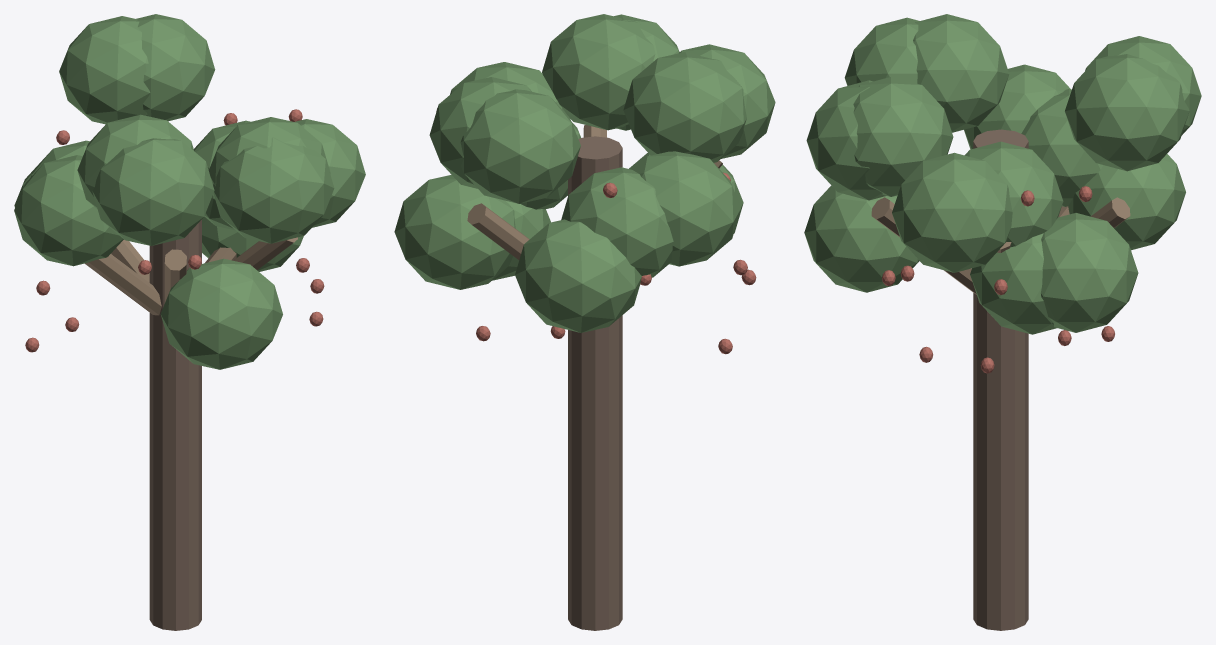
The model's file is obstbaum_apfel_sommer.glb.
The picture shows the model from 3 angles, left to right: view 1: azimuth 30°, elevation 25°; view 2: azimuth 150°, elevation 25°; view 3: azimuth 270°, elevation 25°; orthographic projection. The views are drawn at different scales.
Parts seen in each view (by area): view 1: obstbaum_apfel_sommer_000, obstbaum_apfel_sommer_013, obstbaum_apfel_sommer_008, obstbaum_apfel_sommer_018, obstbaum_apfel_sommer_009, obstbaum_apfel_sommer_011, obstbaum_apfel_sommer_017, obstbaum_apfel_sommer_016, obstbaum_apfel_sommer_015, obstbaum_apfel_sommer_010, obstbaum_apfel_sommer_004, obstbaum_apfel_sommer_020 (+5 smaller); view 2: obstbaum_apfel_sommer_000, obstbaum_apfel_sommer_009, obstbaum_apfel_sommer_016, obstbaum_apfel_sommer_014, obstbaum_apfel_sommer_012, obstbaum_apfel_sommer_010, obstbaum_apfel_sommer_011, obstbaum_apfel_sommer_019, obstbaum_apfel_sommer_017, obstbaum_apfel_sommer_008, obstbaum_apfel_sommer_015, obstbaum_apfel_sommer_006 (+3 smaller); view 3: obstbaum_apfel_sommer_000, obstbaum_apfel_sommer_015, obstbaum_apfel_sommer_017, obstbaum_apfel_sommer_012, obstbaum_apfel_sommer_010, obstbaum_apfel_sommer_016, obstbaum_apfel_sommer_013, obstbaum_apfel_sommer_014, obstbaum_apfel_sommer_020, obstbaum_apfel_sommer_007, obstbaum_apfel_sommer_018, obstbaum_apfel_sommer_019 (+5 smaller).
Part boxes in pixels (x1,y1,x2,y2): obstbaum_apfel_sommer_000: (149, 219, 201, 630); obstbaum_apfel_sommer_013: (160, 258, 282, 369); obstbaum_apfel_sommer_008: (92, 138, 214, 245); obstbaum_apfel_sommer_018: (213, 137, 334, 243); obstbaum_apfel_sommer_009: (59, 16, 150, 124); obstbaum_apfel_sommer_011: (14, 155, 123, 266); obstbaum_apfel_sommer_017: (136, 14, 215, 121); obstbaum_apfel_sommer_016: (77, 114, 193, 208); obstbaum_apfel_sommer_015: (295, 119, 365, 227); obstbaum_apfel_sommer_010: (208, 117, 330, 185); obstbaum_apfel_sommer_004: (85, 254, 161, 315); obstbaum_apfel_sommer_020: (202, 216, 303, 271); obstbaum_apfel_sommer_000: (568, 136, 622, 630); obstbaum_apfel_sommer_009: (460, 89, 580, 203); obstbaum_apfel_sommer_016: (623, 52, 746, 162); obstbaum_apfel_sommer_014: (515, 219, 641, 332); obstbaum_apfel_sommer_012: (394, 175, 515, 289); obstbaum_apfel_sommer_010: (542, 14, 655, 130); obstbaum_apfel_sommer_011: (632, 151, 740, 266); obstbaum_apfel_sommer_019: (561, 167, 673, 277); obstbaum_apfel_sommer_017: (429, 77, 531, 188); obstbaum_apfel_sommer_008: (679, 44, 775, 158); obstbaum_apfel_sommer_015: (450, 62, 566, 114); obstbaum_apfel_sommer_006: (467, 203, 529, 259); obstbaum_apfel_sommer_000: (973, 129, 1028, 630); obstbaum_apfel_sommer_015: (892, 152, 1012, 272); obstbaum_apfel_sommer_017: (1065, 54, 1189, 171); obstbaum_apfel_sommer_012: (1041, 213, 1138, 332); obstbaum_apfel_sommer_010: (853, 77, 953, 196); obstbaum_apfel_sommer_016: (913, 14, 1009, 132); obstbaum_apfel_sommer_013: (804, 185, 919, 292); obstbaum_apfel_sommer_014: (1068, 154, 1185, 250); obstbaum_apfel_sommer_020: (970, 233, 1056, 334); obstbaum_apfel_sommer_007: (964, 141, 1063, 247); obstbaum_apfel_sommer_018: (806, 80, 885, 200); obstbaum_apfel_sommer_019: (1021, 89, 1102, 206).
Size of the model in its own units: 2.68 by 4.62 by 2.86.
